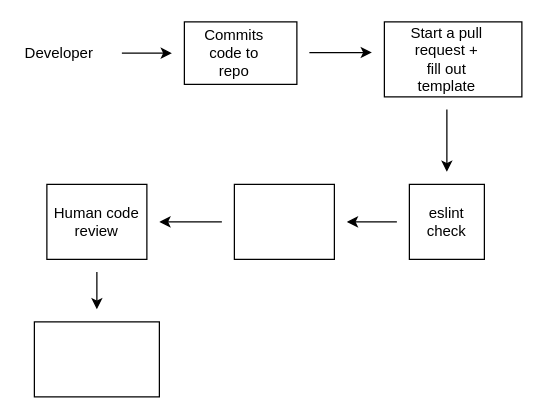
The diagram is 544 pixels wide and 419 high, and some of its shapes have lost their labels. The shapes that lost their labels are listed below. From the top down, each one's centre as x and y in pixels, then its label:
the point at 283,221: Jest Unit Testing
the point at 96,359: Merge into main branch
